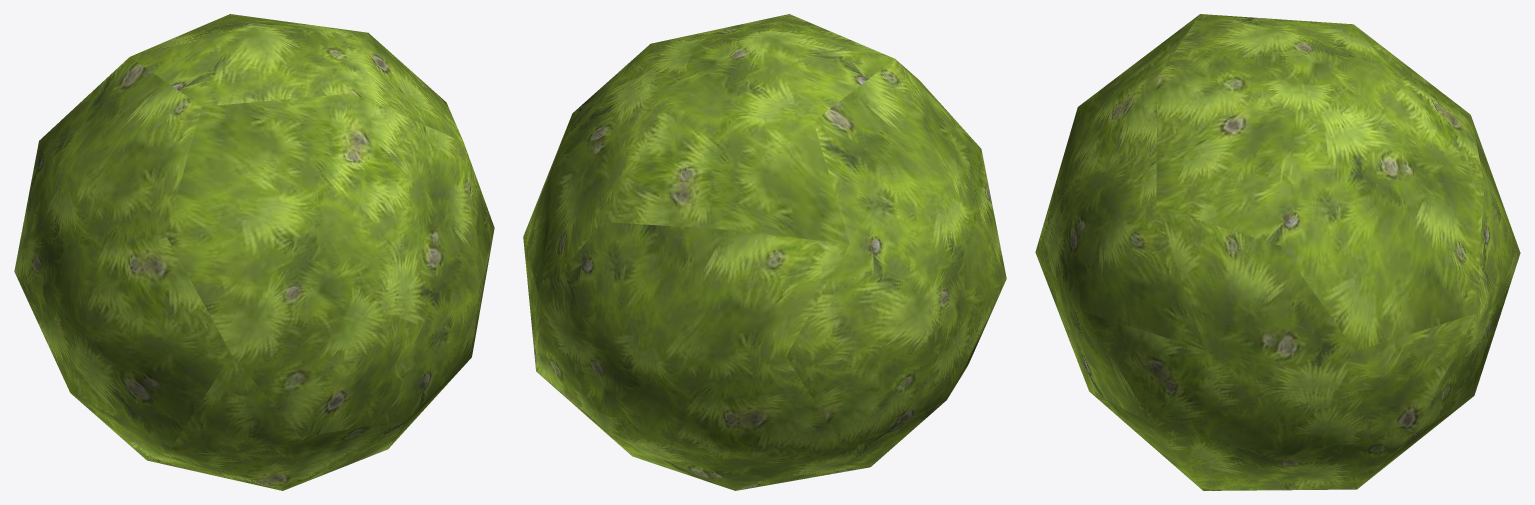
The model's file is rollingRock.fbx.
3 renders of one model, left to right at view 1: azimuth 30°, elevation 25°; view 2: azimuth 150°, elevation 25°; view 3: azimuth 270°, elevation 25°, orthographic.
Visible parts, largest first — view 1: Icosphere; view 2: Icosphere; view 3: Icosphere.
Boxes of the visible parts, x1,y1,x2,y2 form: Icosphere: [14, 14, 494, 490]; Icosphere: [523, 14, 1006, 490]; Icosphere: [1035, 14, 1520, 490].
Size of the model in its own units: 2.06 by 2.16 by 2.13.
